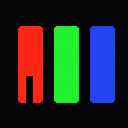4 line_v: (26, 76, 32, 104)
